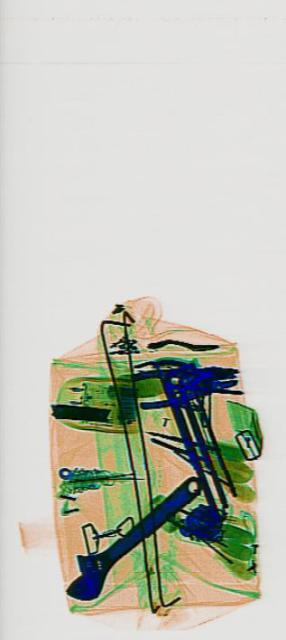Pliers: (134, 344, 237, 410)
Wrench: (60, 454, 203, 618)
